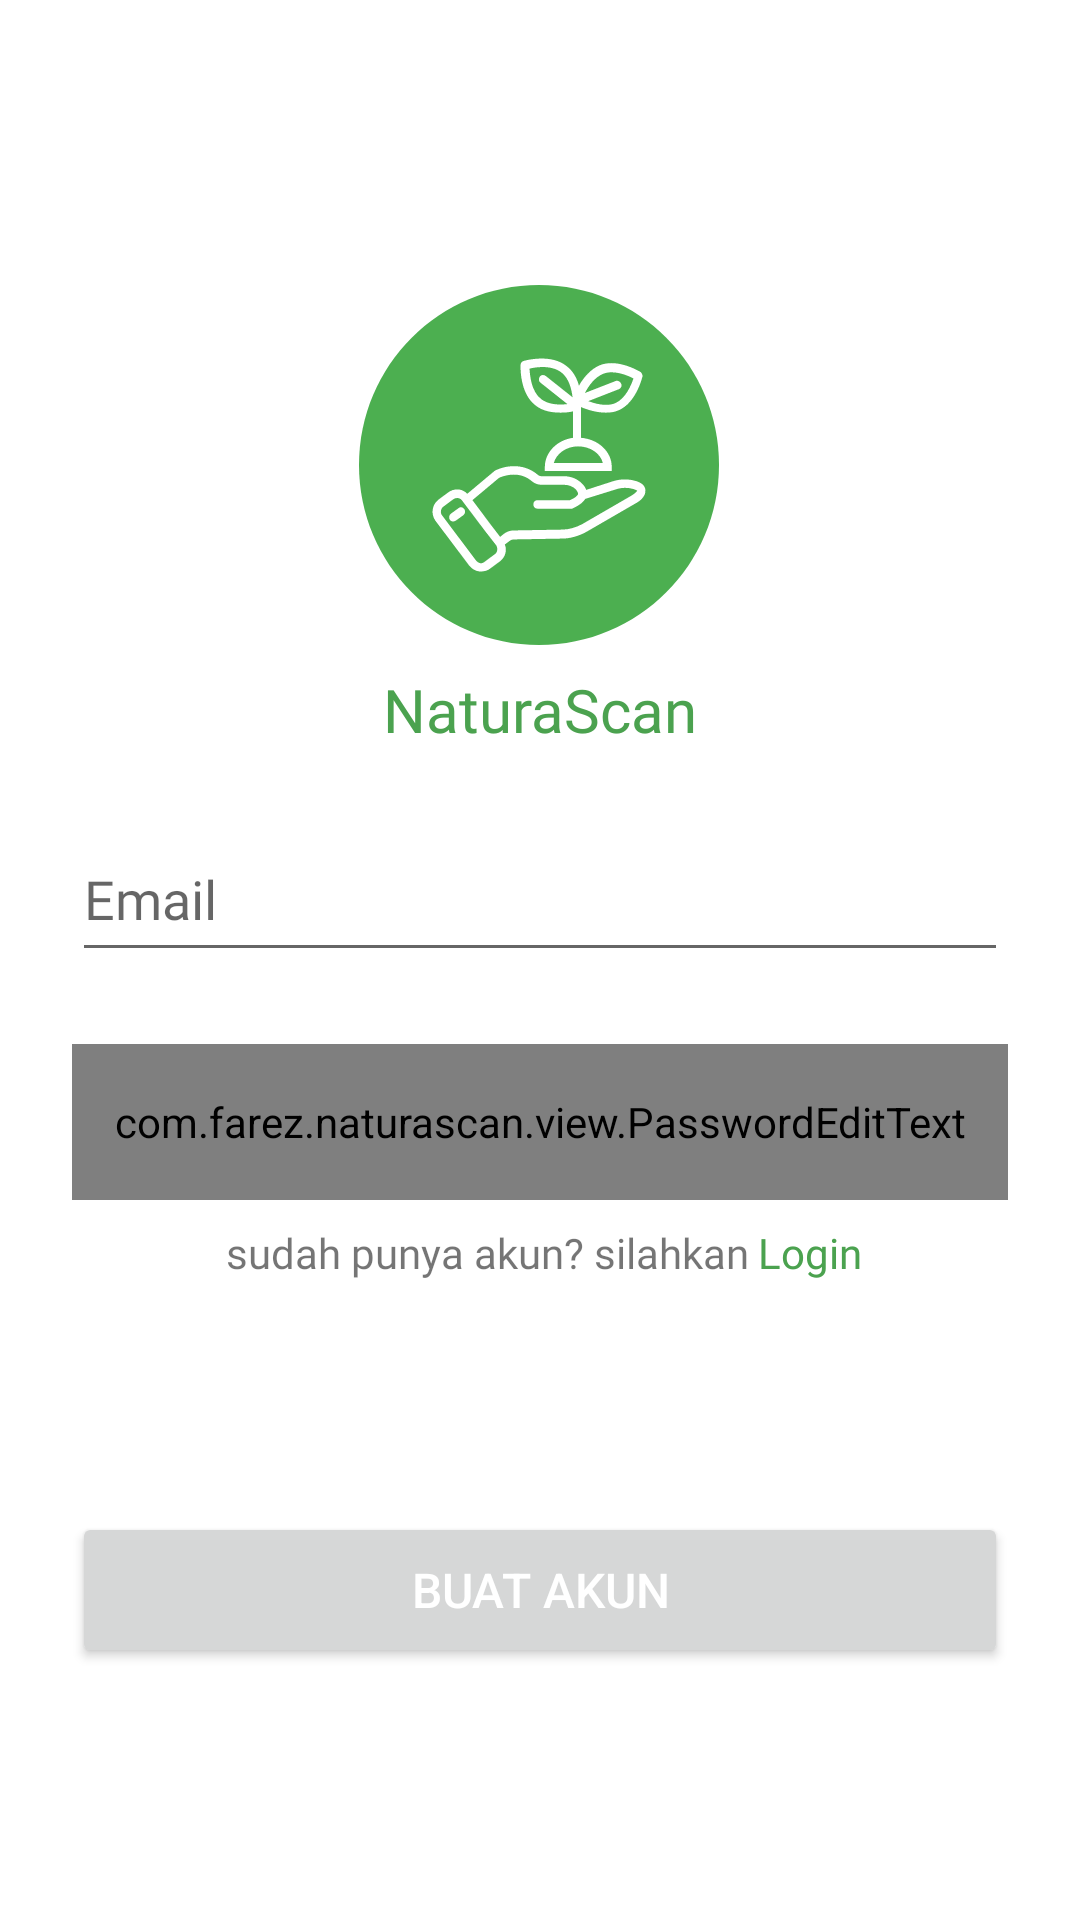

Icons on this 1080 x 1920 Android screen, each with the point to tap as (x=x, y=y):
app: (x=539, y=465)
